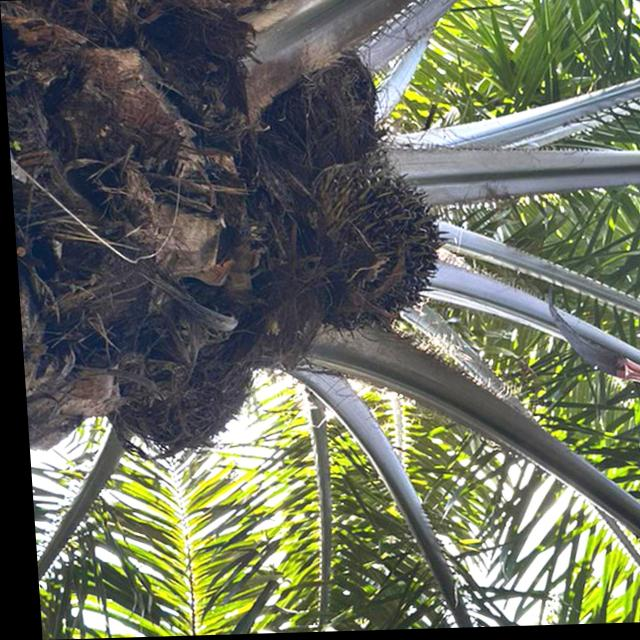unripe: (284, 155, 457, 343)
